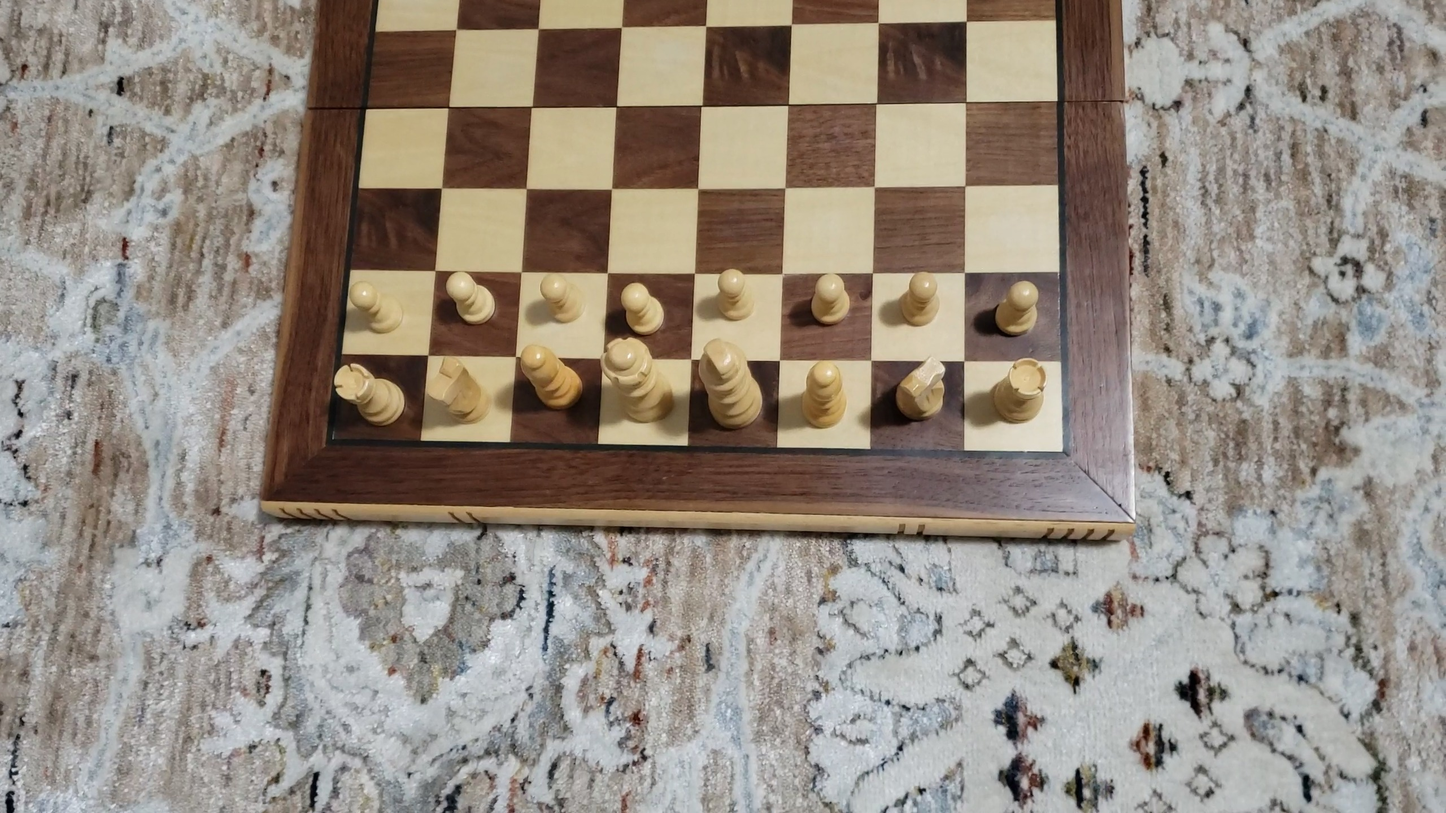white-bishop: (517, 343, 583, 413), (799, 357, 852, 434)
white-king: (695, 336, 766, 434)
white-knight: (425, 352, 495, 429), (890, 352, 950, 426)
white-pawn: (347, 279, 410, 338), (990, 275, 1044, 342), (441, 268, 499, 327), (895, 266, 945, 330), (804, 269, 856, 330), (711, 263, 758, 326), (536, 269, 586, 326), (618, 279, 667, 336)
white-queen: (598, 335, 678, 426)
white-rook: (334, 360, 406, 429), (988, 355, 1049, 426)
